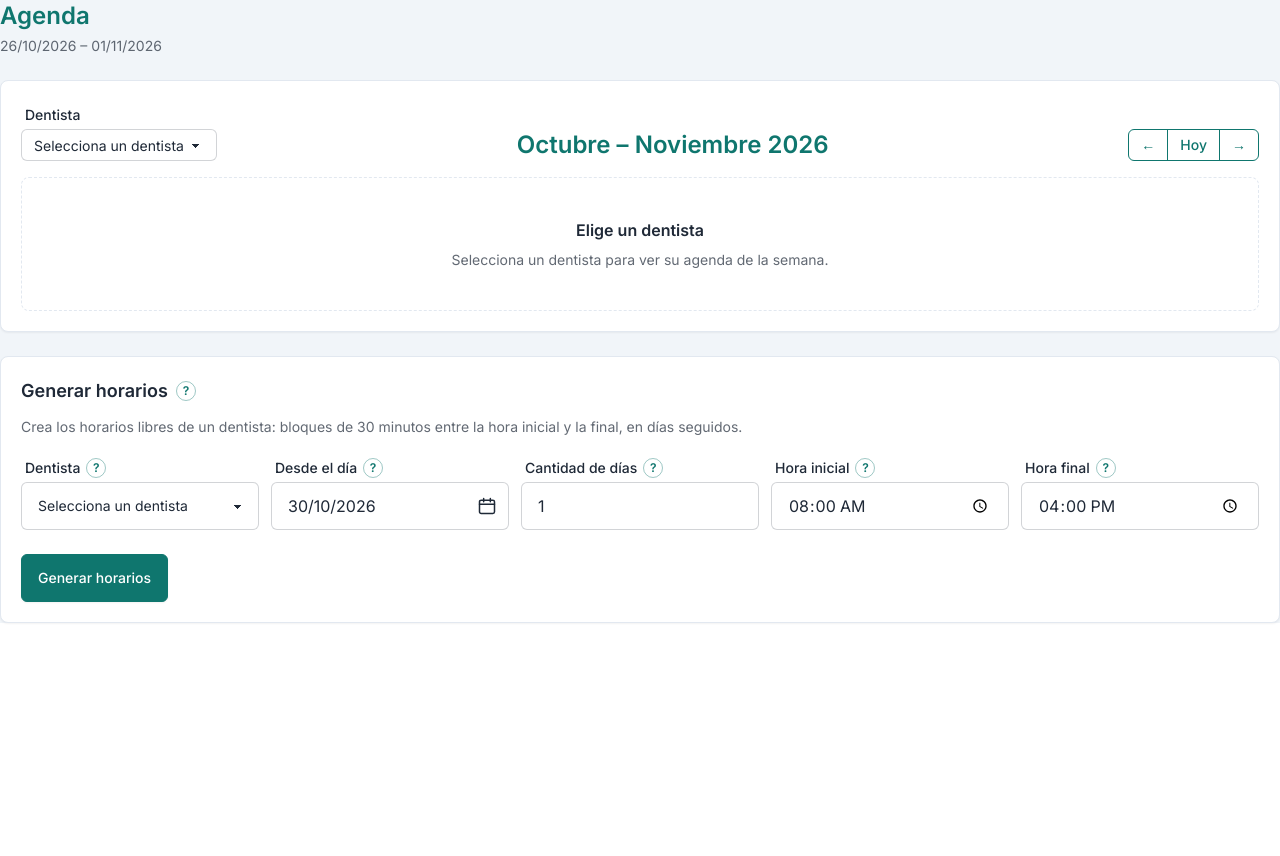
Test: Agenda semanal › informa cuando no hay horarios o falla la carga
The image size is (1280, 856).
Select "Ana Pérez" in the 1st dropdown labelled "Dentista" at (119, 145), box x1=21 y1=129 x2=217 y2=161
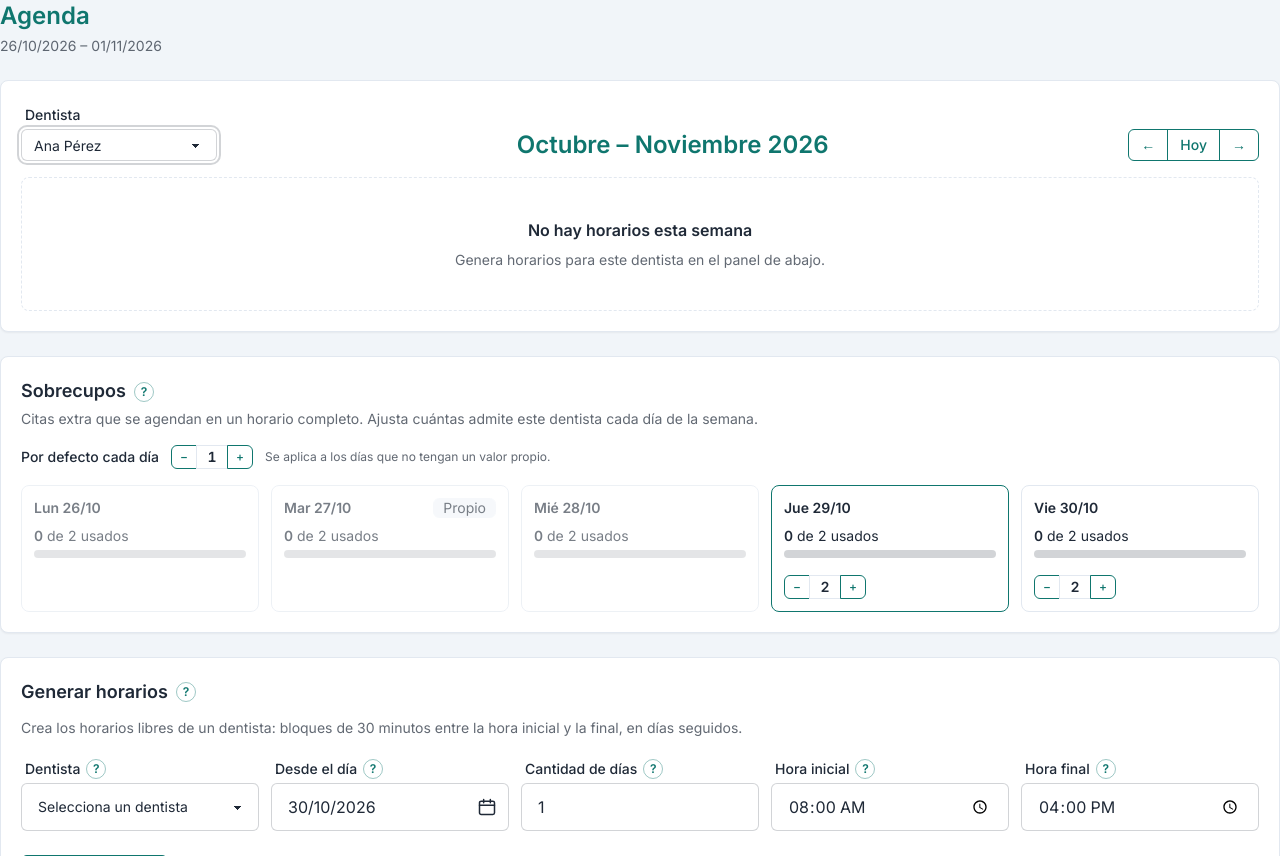
Now the text "No hay horarios esta semana" is shown, box x1=528 y1=218 x2=752 y2=242
Click the button named "Semana siguiente" at (1239, 145), box x1=1219 y1=129 x2=1259 y2=161
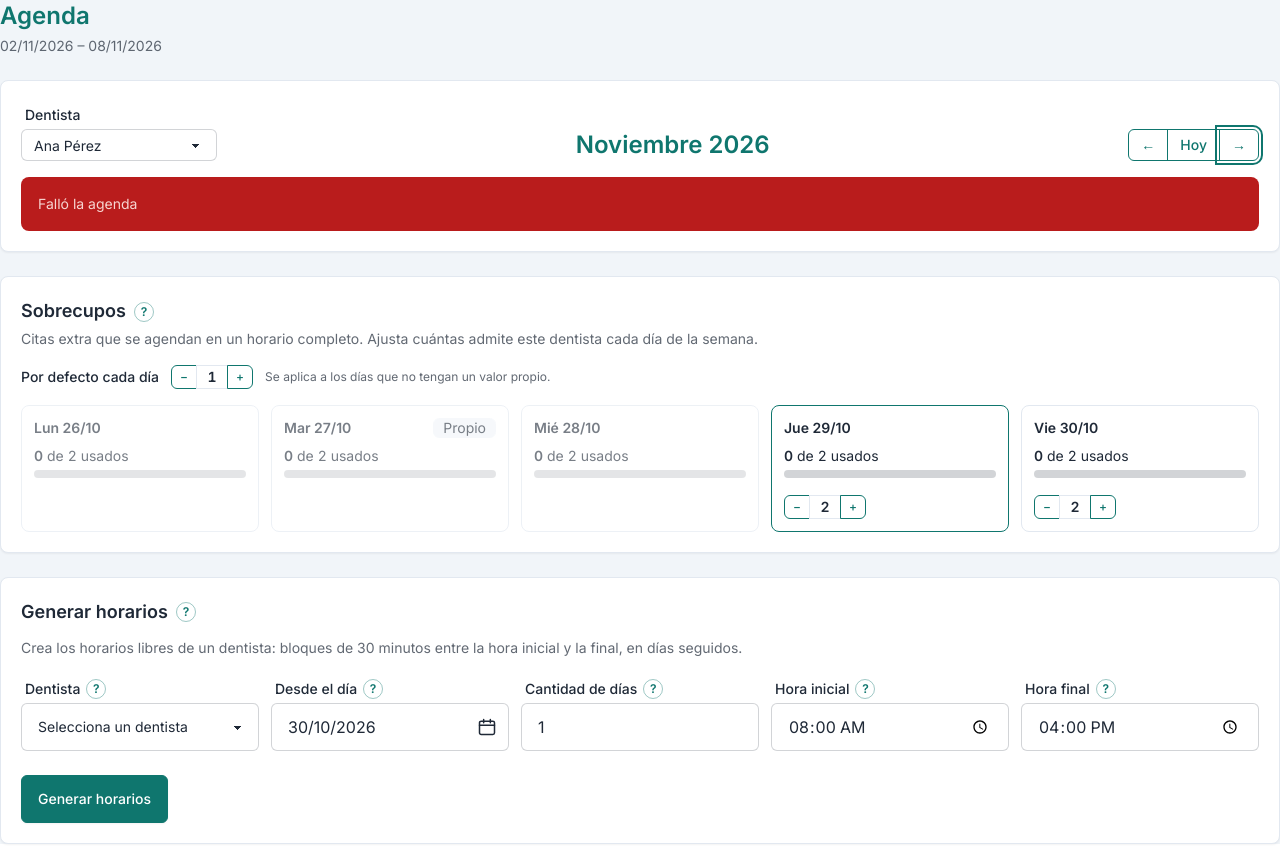
Now the text "Falló la agenda" is shown, box x1=38 y1=194 x2=137 y2=214
